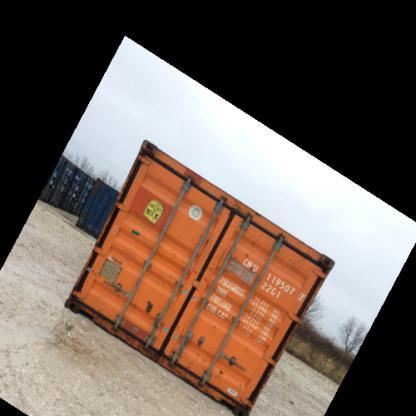Damage: (216, 250, 257, 284), (126, 224, 159, 245), (129, 296, 161, 317), (189, 228, 207, 260), (313, 250, 335, 276), (136, 142, 155, 158)
